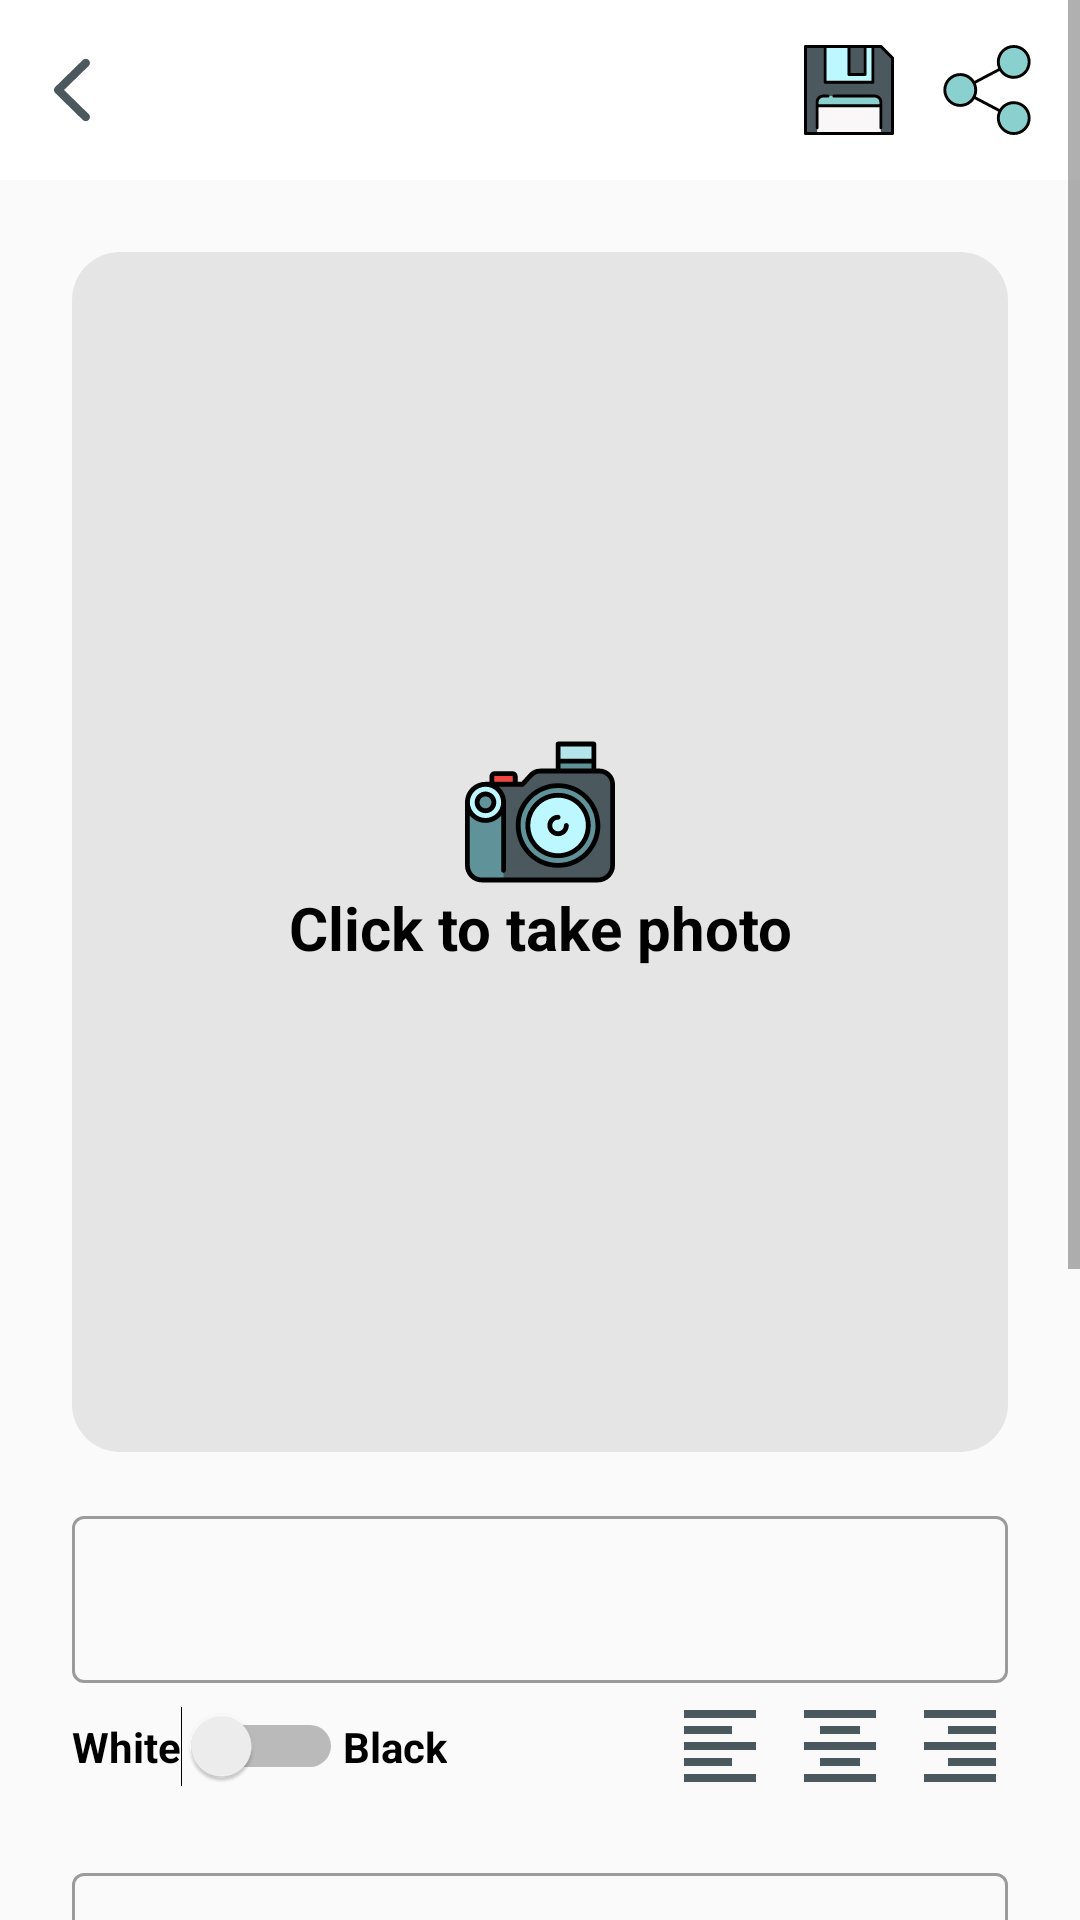

Point at icon controls on the screen. Image size 1080 × 1920, points as (x,y).
align center: (840,1746)
align left: (720,1746)
align right: (960,1746)
arrow: (72,90)
save: (849,90)
share: (987,90)
